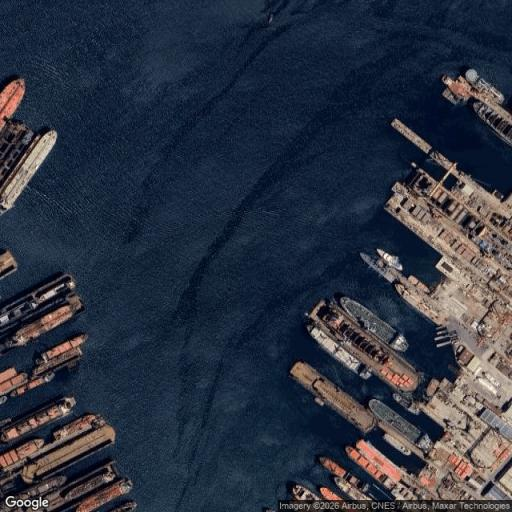ship: (309, 300, 419, 392), (290, 362, 375, 432), (21, 424, 115, 483), (0, 131, 56, 214), (0, 275, 75, 336), (4, 295, 83, 348), (339, 297, 407, 351), (307, 324, 371, 379), (0, 397, 76, 443), (346, 440, 402, 488), (33, 334, 87, 375), (369, 400, 420, 443), (395, 284, 447, 324), (75, 479, 132, 511), (473, 102, 511, 146), (64, 471, 115, 500), (0, 439, 43, 473), (53, 415, 105, 440), (0, 78, 25, 129), (13, 476, 66, 500), (360, 252, 397, 282), (10, 372, 54, 397), (335, 474, 371, 499), (0, 368, 27, 395), (384, 433, 411, 455), (393, 393, 420, 415), (376, 249, 402, 271), (319, 457, 346, 476), (0, 251, 17, 279), (292, 484, 320, 500), (408, 274, 430, 294), (319, 486, 344, 500), (109, 501, 136, 511), (426, 379, 439, 396)
